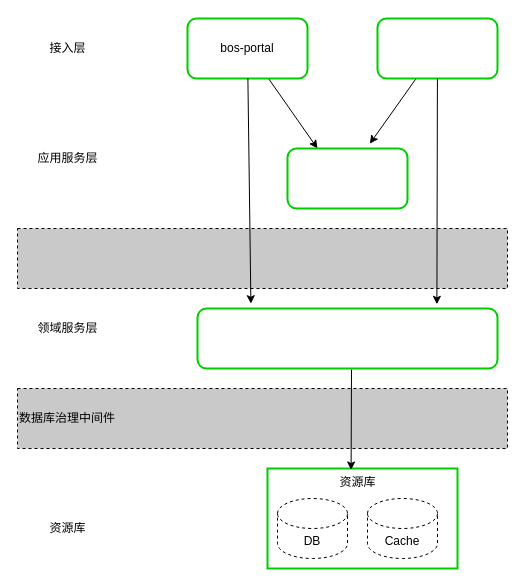
Some shapes in this 525 by 586 pixel diagram are drawn without their labels. Here are the shapes that lost their labels. From the top down, the centre of each, then its label:
At pixel 347 178: "应用服务".
At pixel 347 338: "领域服务".
